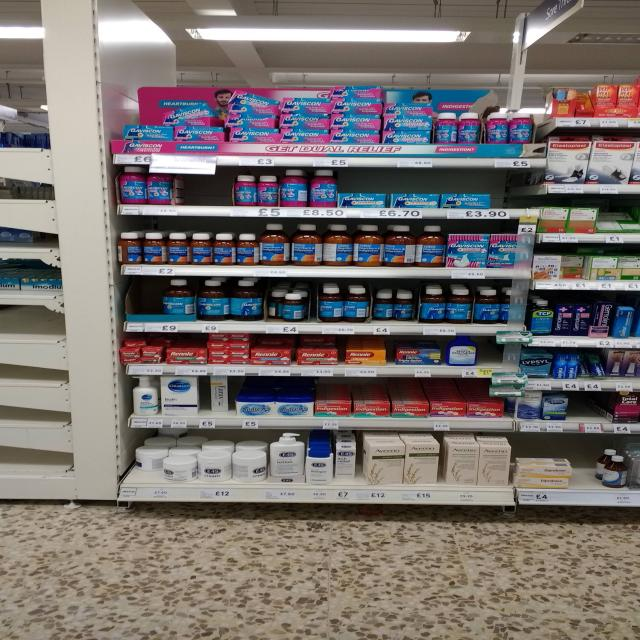void: (180, 162, 232, 208), (575, 432, 602, 489), (500, 166, 534, 208), (121, 280, 153, 321), (575, 391, 611, 421)
